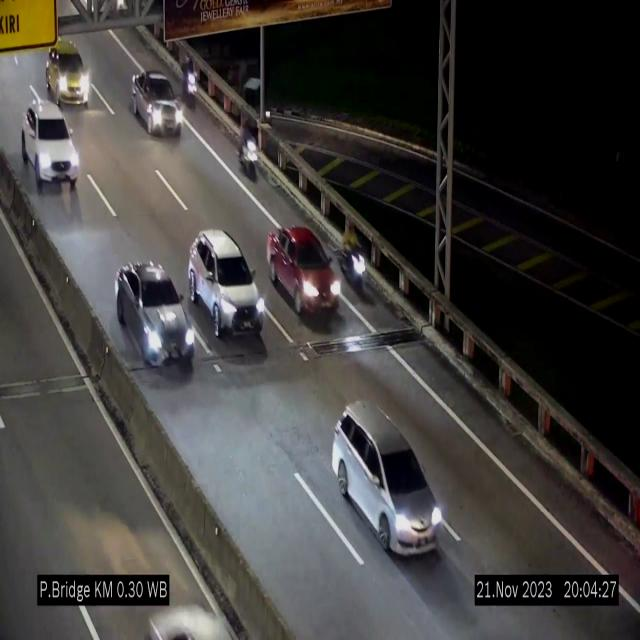Car: (332, 402, 442, 557), (116, 262, 196, 368), (187, 230, 265, 337), (267, 226, 343, 324), (22, 99, 79, 190), (45, 36, 95, 120), (130, 72, 182, 136)
Motorcycle: (342, 214, 367, 302), (236, 114, 260, 186), (182, 55, 200, 109)
